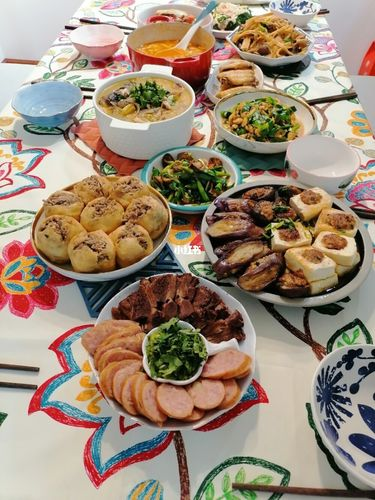food: (196, 172, 363, 299), (95, 267, 256, 392), (22, 165, 174, 280), (90, 61, 198, 158), (216, 225, 362, 296), (212, 81, 316, 155), (143, 138, 243, 214), (127, 17, 213, 76), (229, 9, 313, 69), (13, 76, 81, 127)
